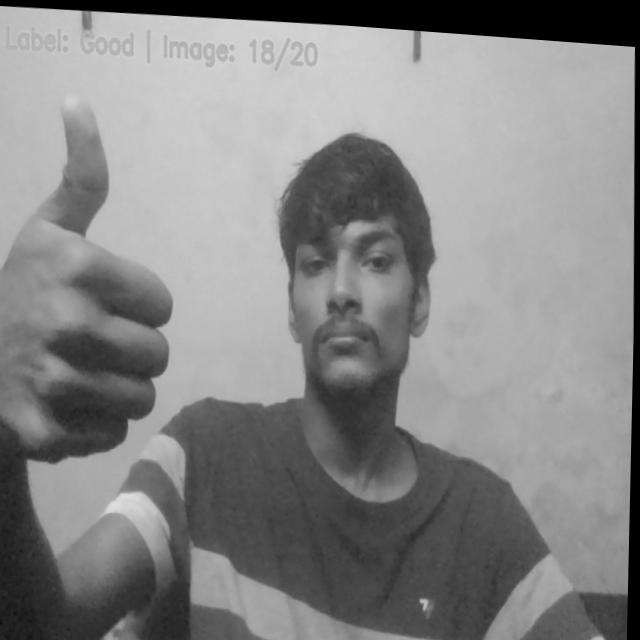Good: (0, 79, 185, 458)
